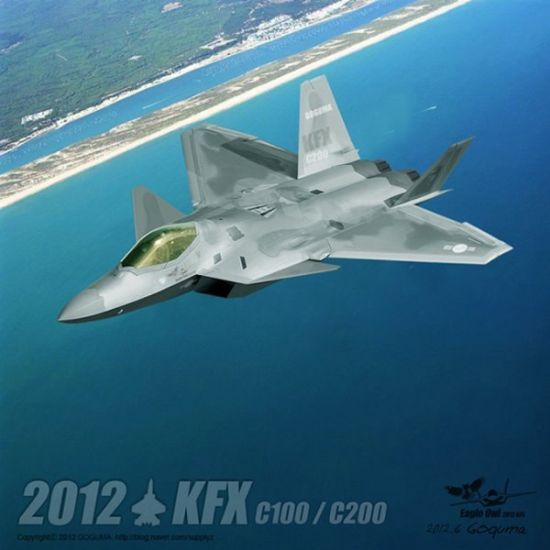airplane: (51, 72, 512, 331)
